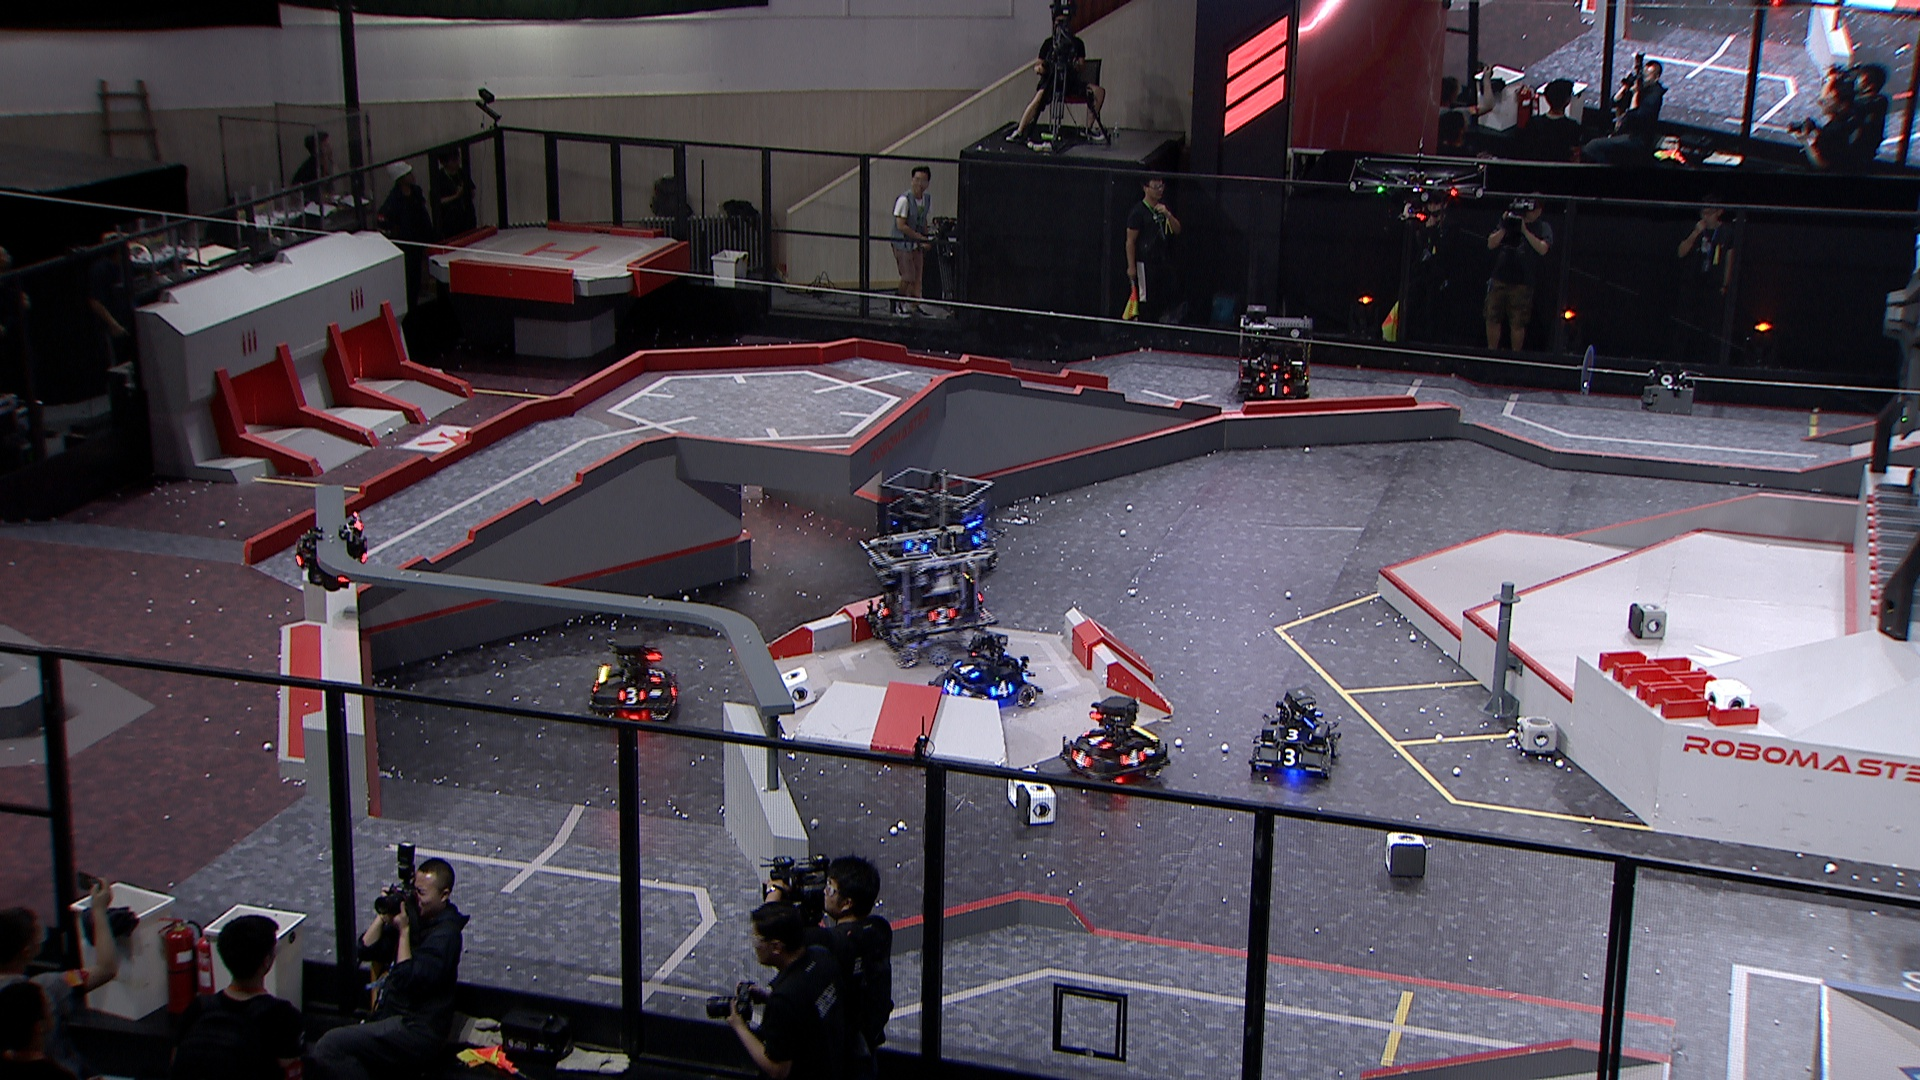armor: (1083, 728, 1114, 754), (615, 684, 647, 705), (926, 605, 955, 626), (1273, 728, 1315, 742), (953, 659, 981, 680), (1120, 746, 1145, 767), (1255, 384, 1291, 398), (1069, 749, 1095, 769), (1276, 746, 1302, 766), (989, 679, 1015, 698), (1258, 368, 1291, 381), (873, 600, 891, 622), (905, 538, 928, 555), (942, 675, 961, 695), (969, 527, 989, 547), (647, 669, 667, 684), (1324, 736, 1337, 757)
car: (858, 524, 1006, 674), (877, 465, 1001, 583), (1055, 695, 1174, 785), (927, 626, 1046, 712), (1245, 687, 1342, 785), (585, 633, 680, 725), (1237, 305, 1317, 411)
watcher: (294, 509, 368, 593)
